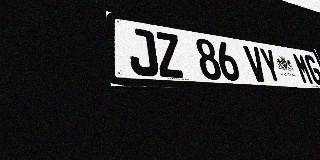6: (214, 41, 242, 81)
8: (194, 37, 223, 80)
G: (303, 54, 320, 85)
J: (127, 27, 159, 77)
M: (292, 53, 315, 85)
V: (243, 45, 269, 82)
Y: (258, 47, 283, 83)
Z: (154, 31, 185, 78)
